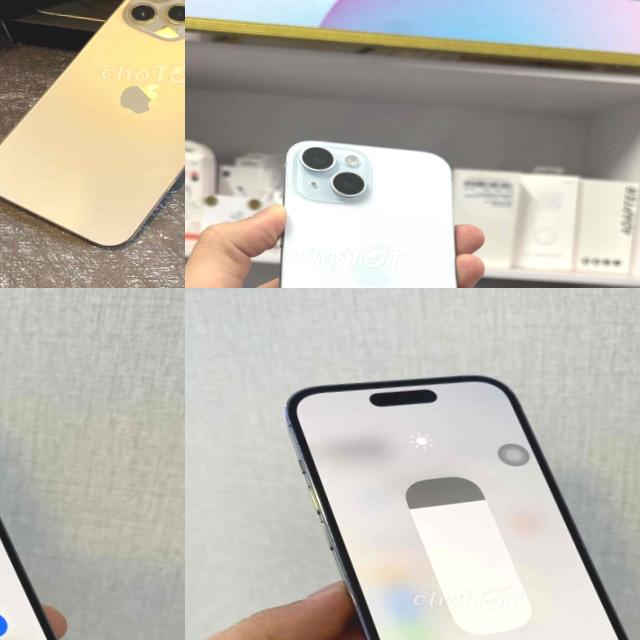gen_12_13: (0, 0, 185, 255)
gen_14: (257, 361, 640, 640), (0, 321, 88, 640)
gen_15: (272, 141, 490, 288)
